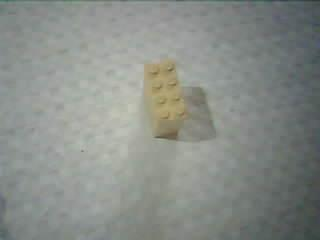lego: (141, 57, 188, 138)
